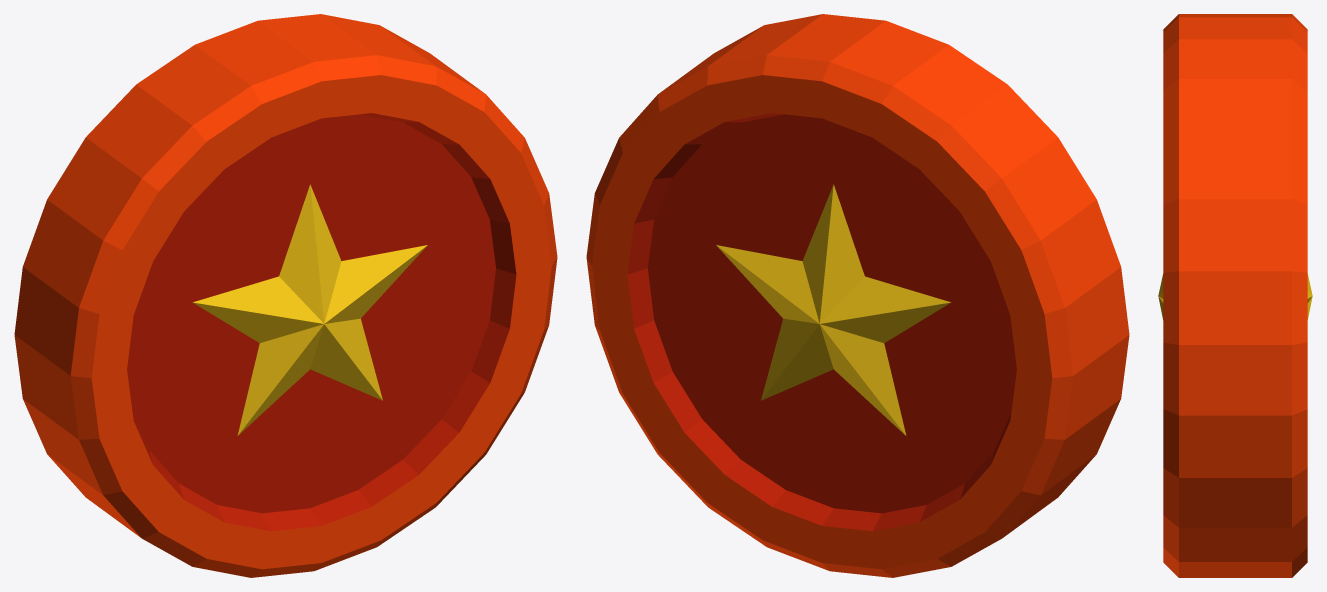
The model's file is GoldCoin.fbx.
3 views of the same model, side by side, from view 1: azimuth 30°, elevation 25°; view 2: azimuth 150°, elevation 25°; view 3: azimuth 270°, elevation 25° (orthographic).
Visible parts, largest first — view 1: GoldCoin; view 2: GoldCoin; view 3: GoldCoin.
Boxes of the visible parts, x1,y1,x2,y2 form: GoldCoin: (14,14,557,577); GoldCoin: (586,14,1129,577); GoldCoin: (1158,14,1312,577).
Bounding box in the file's own units: 1.1 × 0.3 × 1.1.
